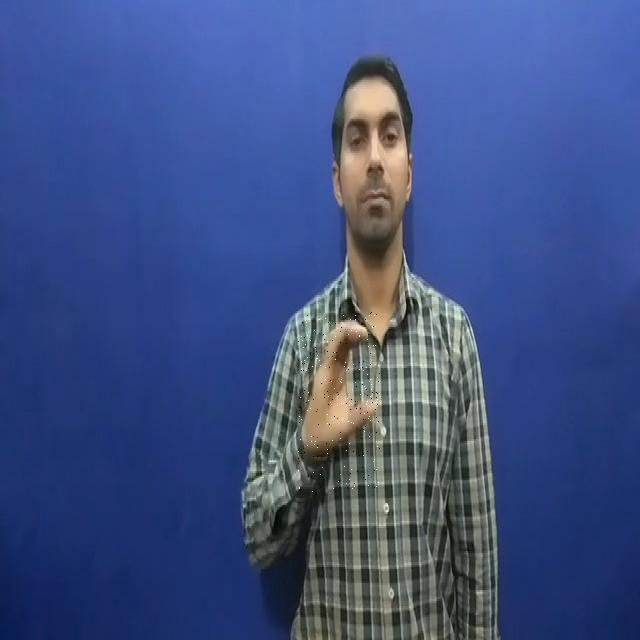pepper: (298, 312, 380, 492)
